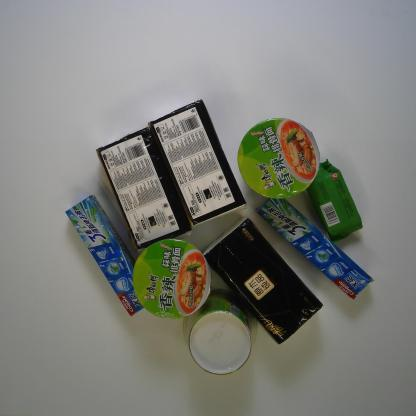Dessert: (306, 158, 364, 244)
Instant Noodles: (236, 117, 321, 200), (182, 288, 258, 376), (132, 238, 213, 320)
Personal Hygiene: (255, 197, 374, 301), (64, 194, 146, 318)
Tissue: (202, 215, 324, 346), (147, 98, 248, 228), (95, 124, 194, 250)
